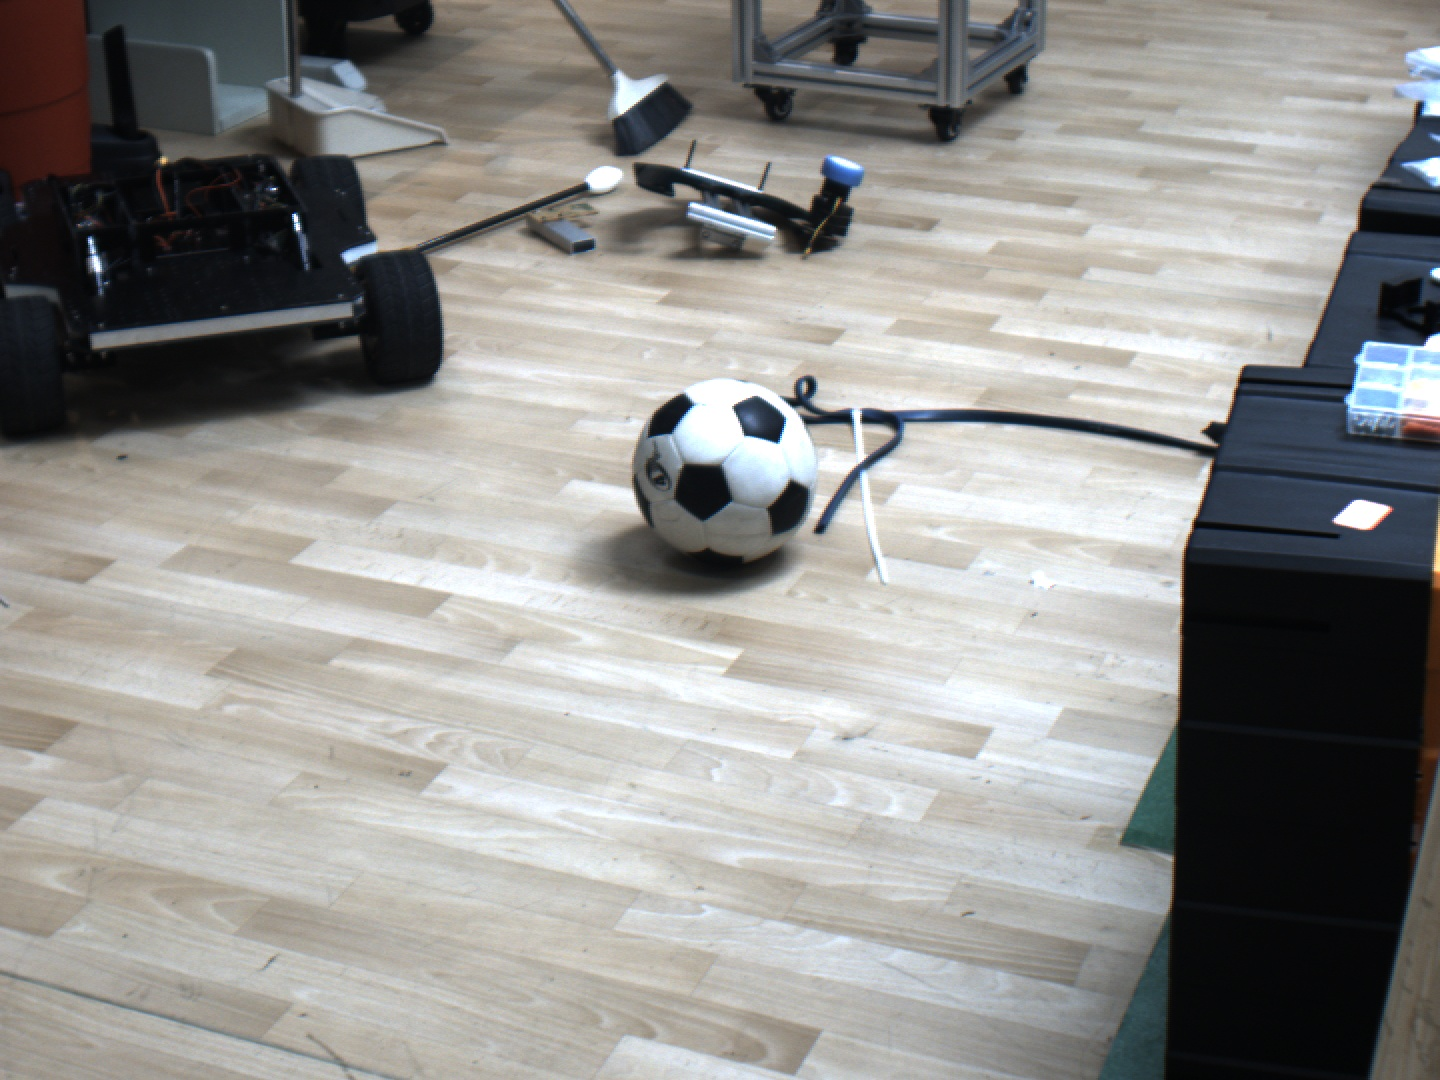ball: (602, 368, 835, 582)
